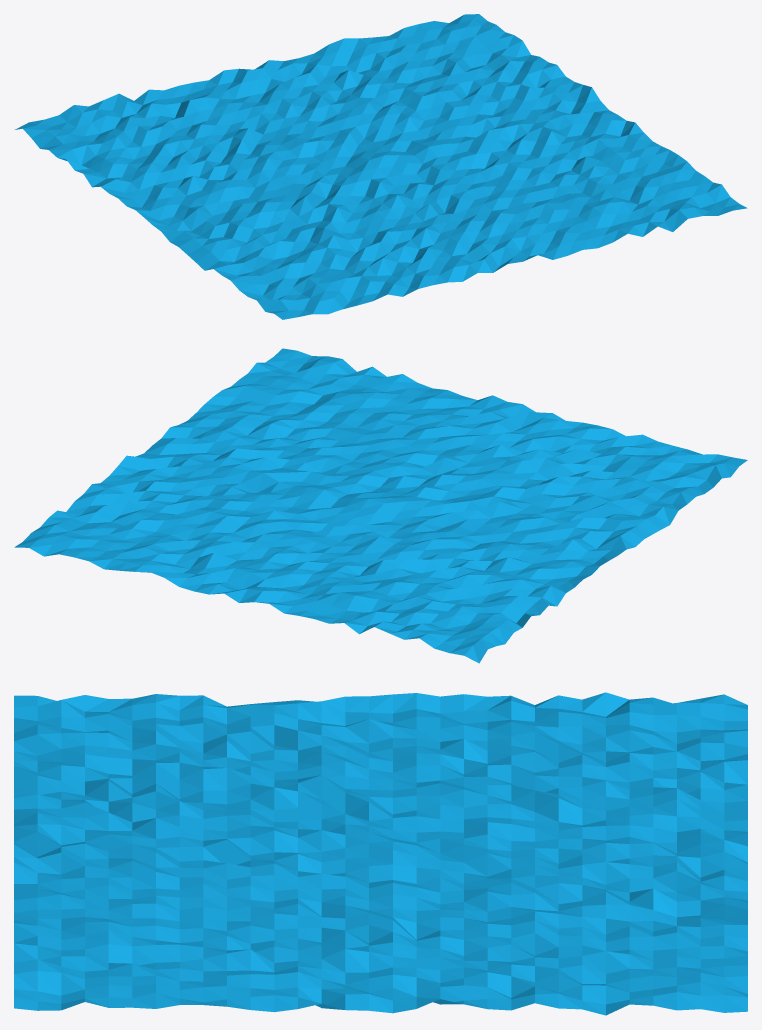
Rendered from water.fbx.
3 views of the same model, one above another, from view 1: azimuth 30°, elevation 25°; view 2: azimuth 150°, elevation 25°; view 3: azimuth 270°, elevation 25° (orthographic). The views are drawn at different scales.
Parts seen in each view (by area): view 1: Plane; view 2: Plane; view 3: Plane.
Boxes of the visible parts, x1,y1,x2,y2 form: Plane: [15, 14, 747, 319]; Plane: [14, 348, 747, 663]; Plane: [14, 692, 747, 1015].
Size of the model in its own units: 1754 by 65.23 by 1754.
